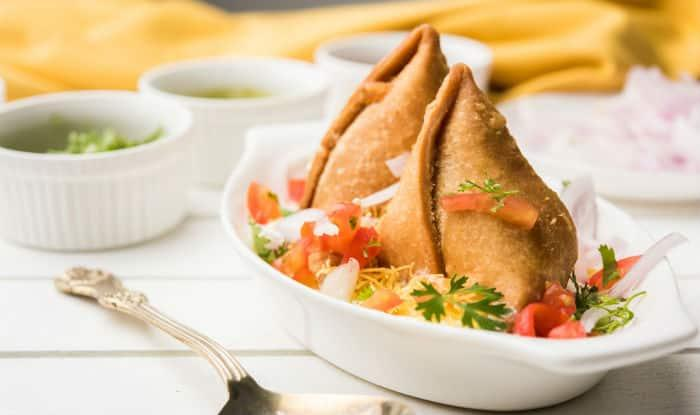samosa: (379, 64, 577, 308)
